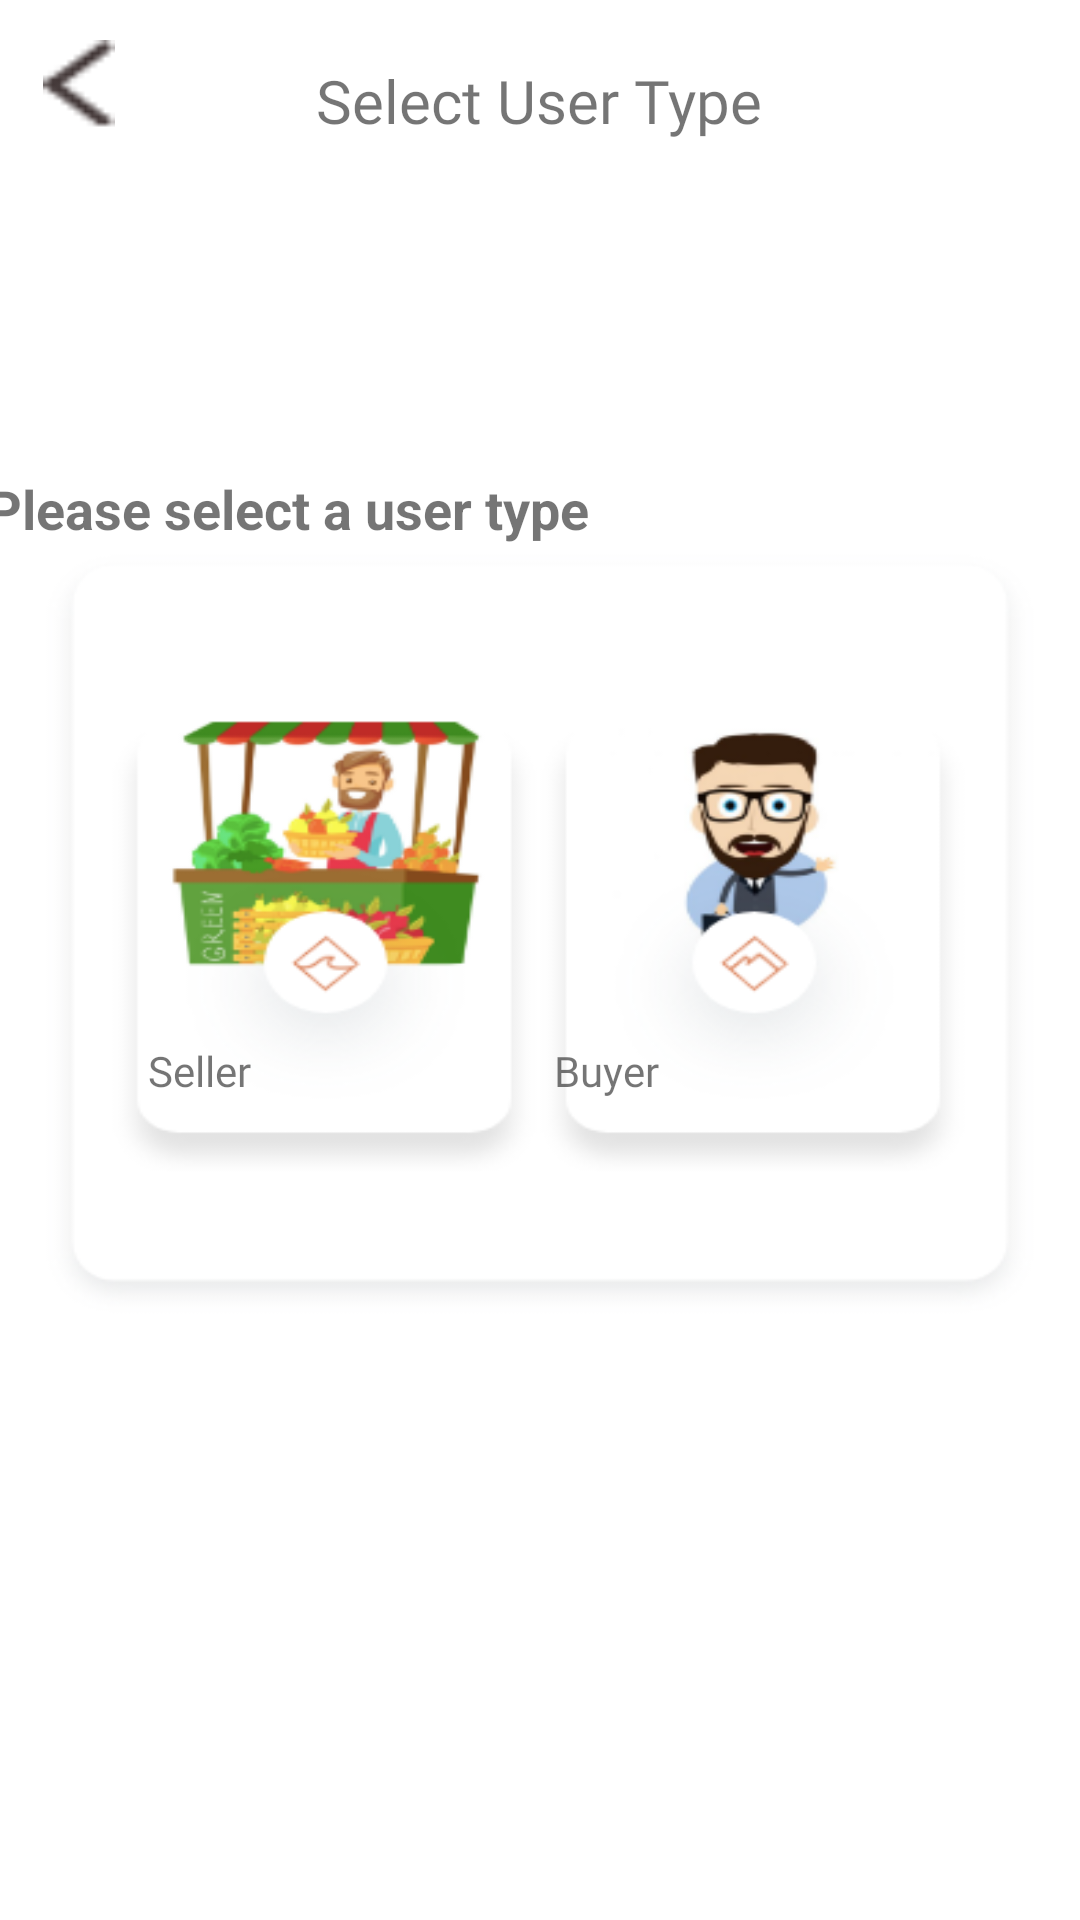

Where to tap for icons on this 1080*1920 app screen, as point (x, y):
back: point (79, 83)
